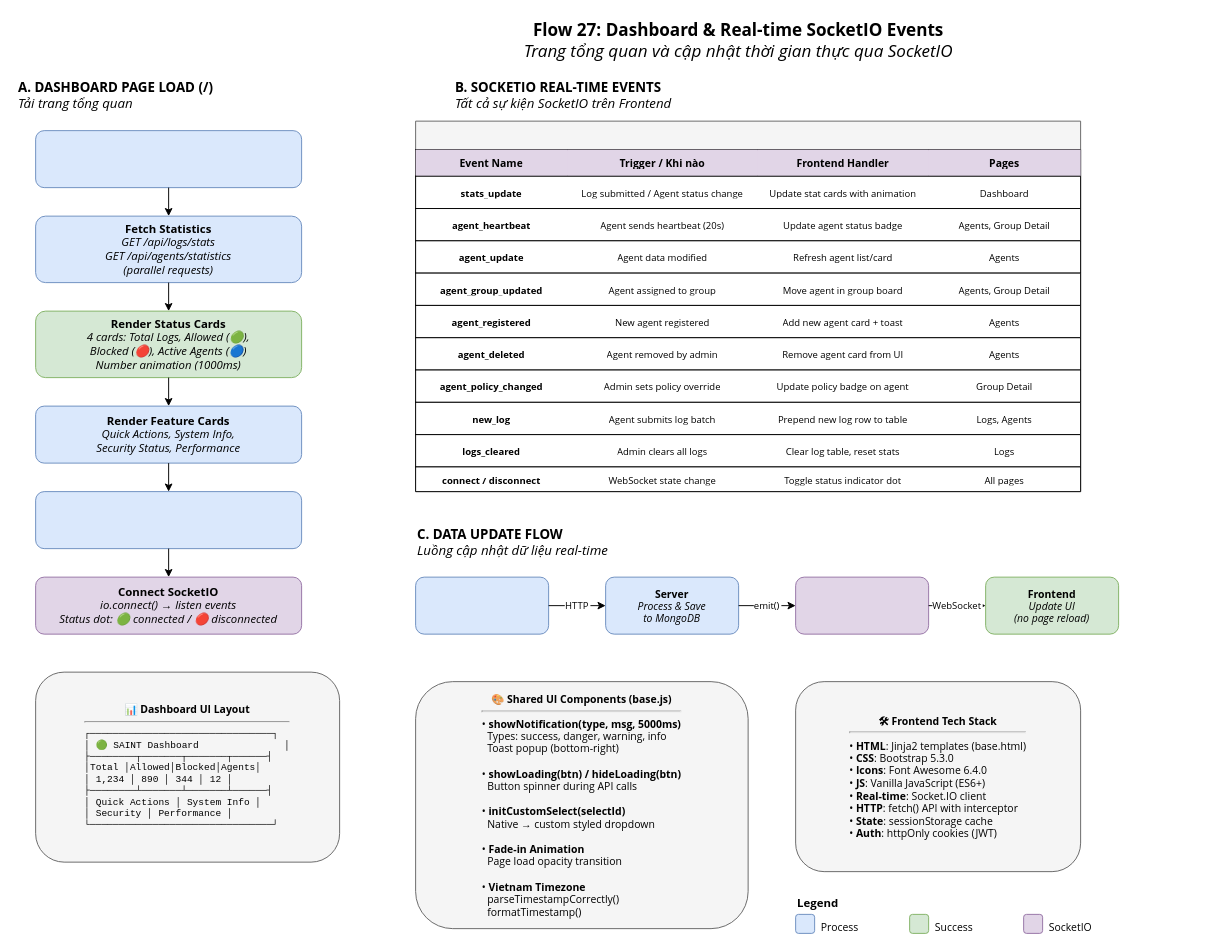
Some shapes in this 1229 by 950 pixel diagram are drawn without their labels. Here are the shapes that lost their labels. From the top down, the box of each, then its label:
(35, 130, 302, 188): Dashboard Page Loaded Route: / (home) auth.js verify session
(415, 120, 1081, 492): SocketIO Event Map (Server → Frontend)
(35, 491, 302, 549): Start Polling Timer setInterval(fetchStats, 10s) Auto-refresh page every 30s
(415, 576, 549, 634): Agent Heartbeat / Log POST /api/...
(795, 576, 929, 634): SocketIO emit() Broadcast event to all clients
